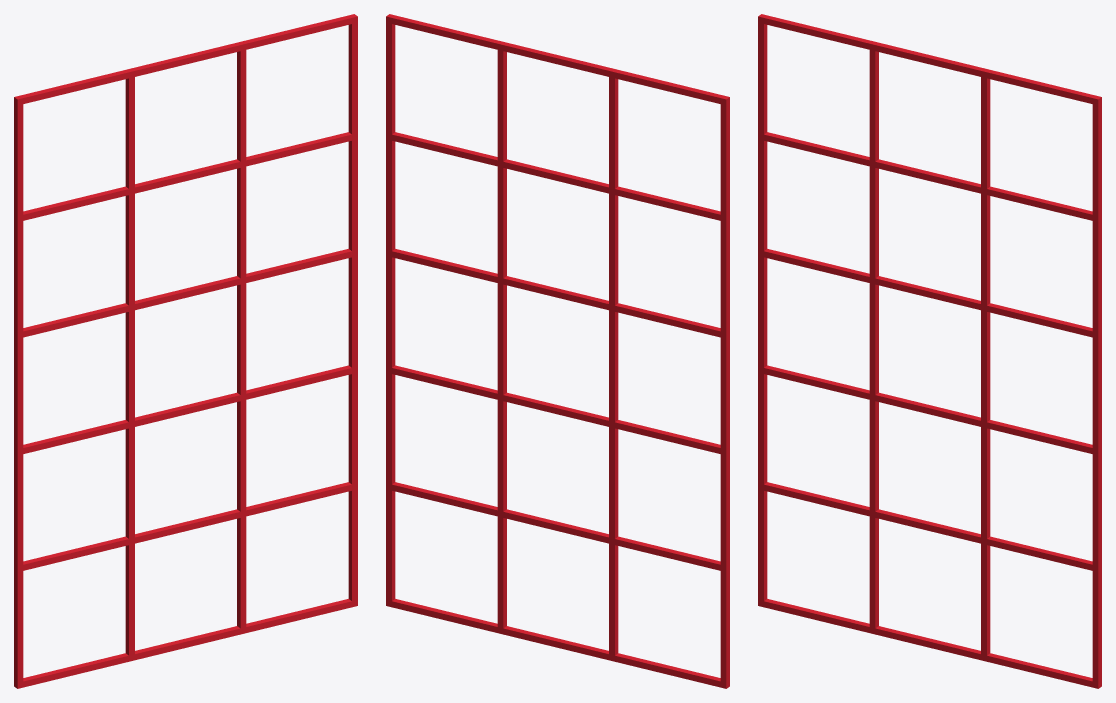
File: tinker (2).obj
3 views of the same model, side by side, from view 1: azimuth 30°, elevation 25°; view 2: azimuth 150°, elevation 25°; view 3: azimuth 330°, elevation 25° (orthographic).
Visible parts, largest first — view 1: obj_0; view 2: obj_0; view 3: obj_0.
Part boxes in pixels (x1=…): obj_0: x1=14, y1=14, x2=357, y2=688; obj_0: x1=386, y1=14, x2=729, y2=688; obj_0: x1=758, y1=14, x2=1101, y2=688.
Bounding box in the file's own units: 58 × 96 × 1.
